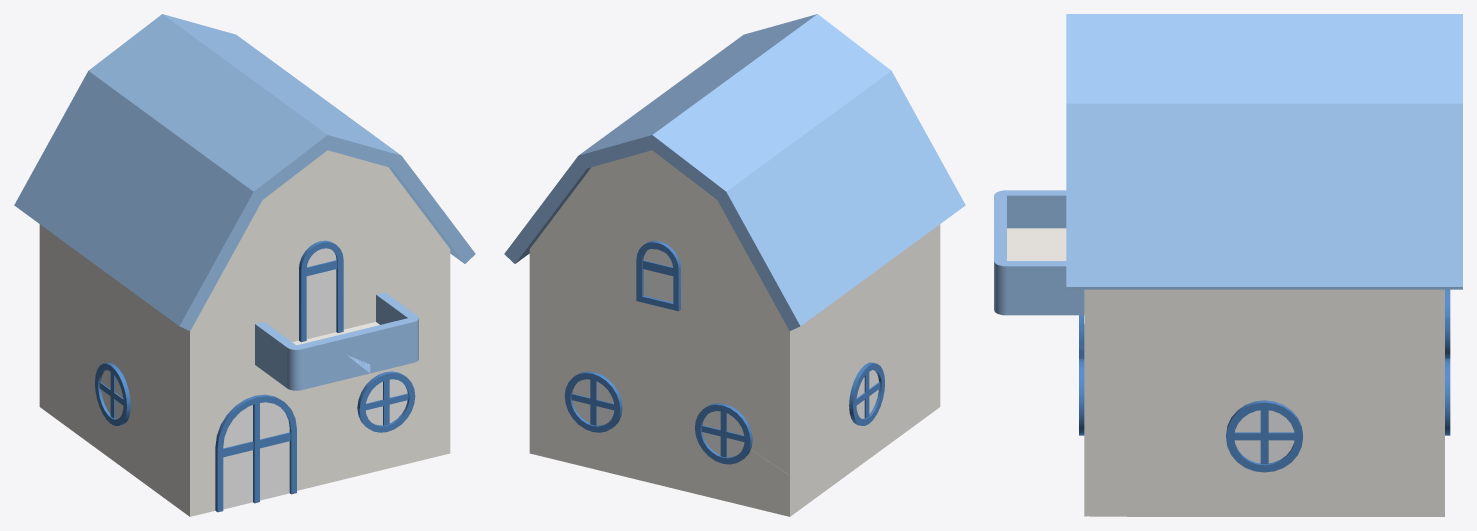
The model's file is House 2 Final Shatter.fbx.
3 renders of one model, left to right at view 1: azimuth 30°, elevation 25°; view 2: azimuth 150°, elevation 25°; view 3: azimuth 270°, elevation 25°, orthographic. The views are drawn at different scales.
Visible parts, largest first — view 1: polySurface628, polySurface629, polySurface784, polySurface785; view 2: polySurface784, polySurface785, polySurface629, polySurface628; view 3: polySurface784, polySurface628, polySurface785, polySurface629.
Boxes of the visible parts, x1,y1,x2,y2 form: polySurface628: (99,89,475,452); polySurface629: (75,222,450,516); polySurface784: (14,14,349,421); polySurface785: (39,366,84,438); polySurface784: (504,60,861,475); polySurface785: (529,299,834,516); polySurface629: (833,144,965,484); polySurface628: (693,14,931,244); polySurface784: (1172,14,1462,398); polySurface628: (994,14,1217,516); polySurface785: (1198,331,1450,516); polySurface629: (994,190,1088,516).
Size of the model in its own units: 228 by 261 by 260.
